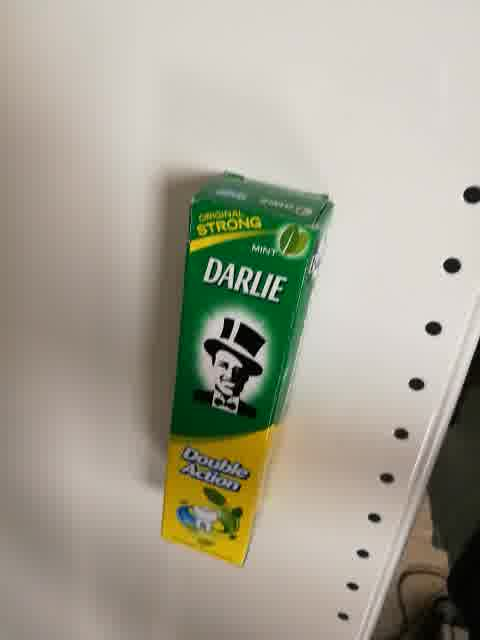toothpaste: (160, 170, 335, 570)
